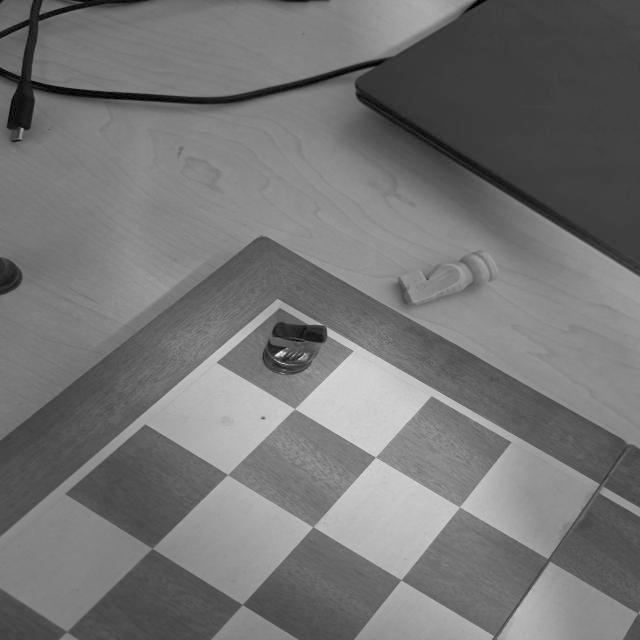chess-table-corners: (246, 292, 314, 328)
